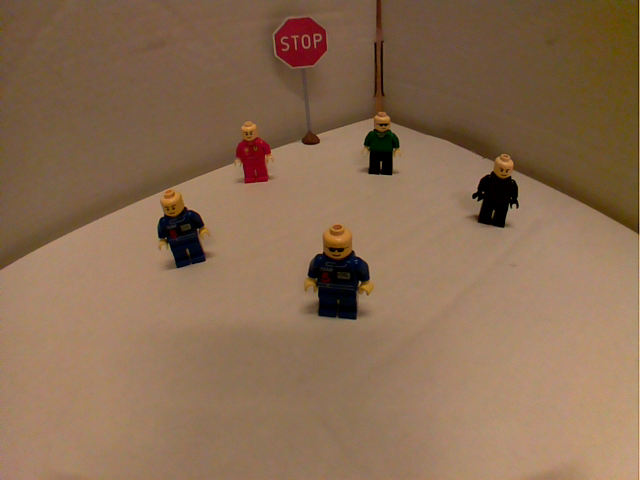Postac LEGO: (301, 220, 377, 331), (152, 186, 213, 271), (469, 151, 525, 237), (357, 105, 404, 180), (229, 117, 278, 185)
Stop: (268, 11, 332, 73)
